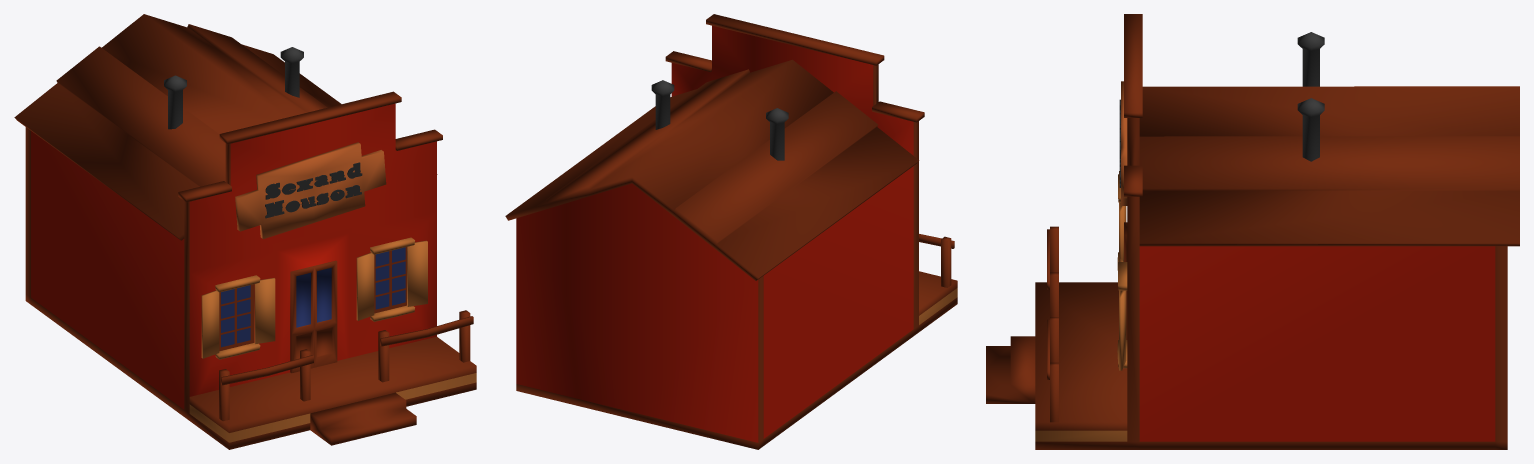
The model's file is Western_SexandHousen.fbx.
3 renders of one model, left to right at view 1: azimuth 30°, elevation 25°; view 2: azimuth 150°, elevation 25°; view 3: azimuth 270°, elevation 25°, orthographic. The views are drawn at different scales.
Visible parts, largest first — view 1: WesternBuilding_Shop_Sexand; view 2: WesternBuilding_Shop_Sexand; view 3: WesternBuilding_Shop_Sexand.
Boxes of the visible parts, x1,y1,x2,y2 form: WesternBuilding_Shop_Sexand: (14, 14, 476, 449); WesternBuilding_Shop_Sexand: (505, 14, 957, 449); WesternBuilding_Shop_Sexand: (986, 14, 1519, 449).
Bounding box in the file's own units: 566 × 570 × 870.
Materials: 1 (1 with a texture image).
